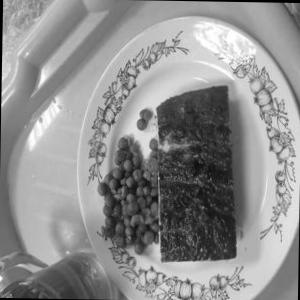casserole: (88, 81, 249, 270)
